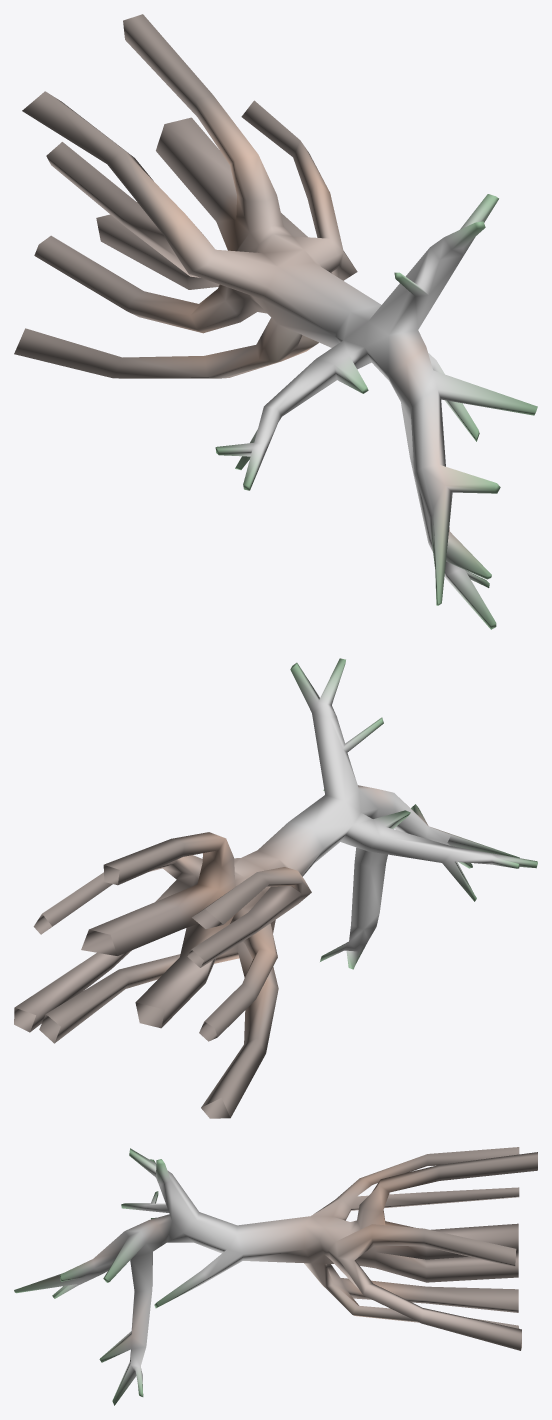
Rendered from Mangrove_A.glb.
3 views of the same model, one above another, from view 1: azimuth 30°, elevation 25°; view 2: azimuth 150°, elevation 25°; view 3: azimuth 270°, elevation 25° (orthographic). The views are drawn at different scales.
Parts seen in each view (by area): view 1: MeshNode_0; view 2: MeshNode_0; view 3: MeshNode_0.
Boxes of the visible parts, x1,y1,x2,y2 form: MeshNode_0: [14, 14, 537, 629]; MeshNode_0: [14, 658, 537, 1118]; MeshNode_0: [14, 1147, 537, 1405].
Size of the model in its own units: 26.48 by 29.04 by 53.7.
